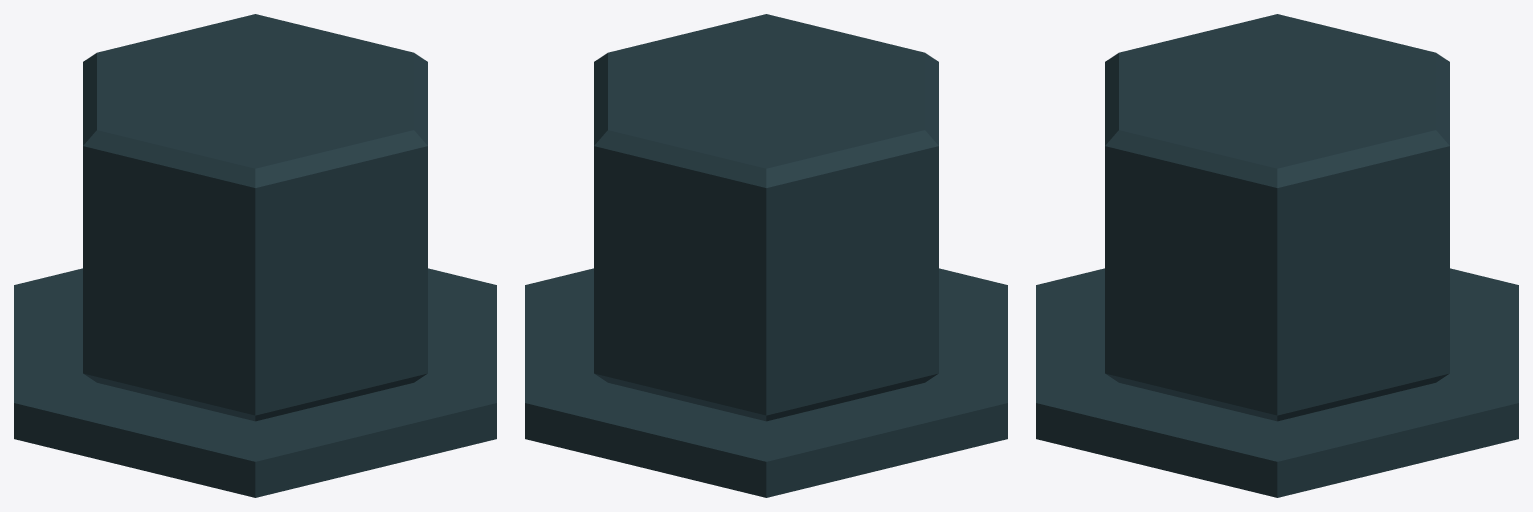
The model's file is column-water-03.fbx.
3 renders of one model, left to right at view 1: azimuth 30°, elevation 25°; view 2: azimuth 150°, elevation 25°; view 3: azimuth 270°, elevation 25°, orthographic.
Visible parts, largest first — view 1: pCylinder44, pCylinder48; view 2: pCylinder44, pCylinder48; view 3: pCylinder44, pCylinder48.
Boxes of the visible parts, x1,y1,x2,y2 form: pCylinder44: (83, 14, 427, 421); pCylinder48: (14, 268, 496, 497); pCylinder44: (594, 14, 938, 421); pCylinder48: (525, 268, 1007, 497); pCylinder44: (1105, 14, 1449, 421); pCylinder48: (1036, 268, 1518, 497).
Bounding box in the file's own units: 2.8 × 1.6 × 2.42.
